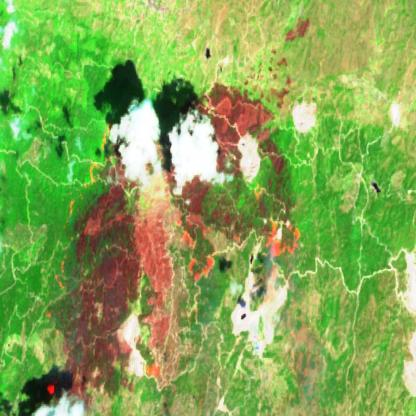fire: (29, 118, 117, 404), (179, 223, 222, 286), (261, 213, 306, 263)
